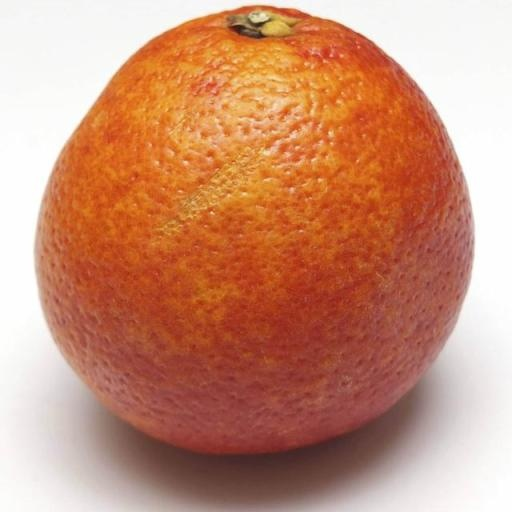fruit: (36, 8, 472, 452)
